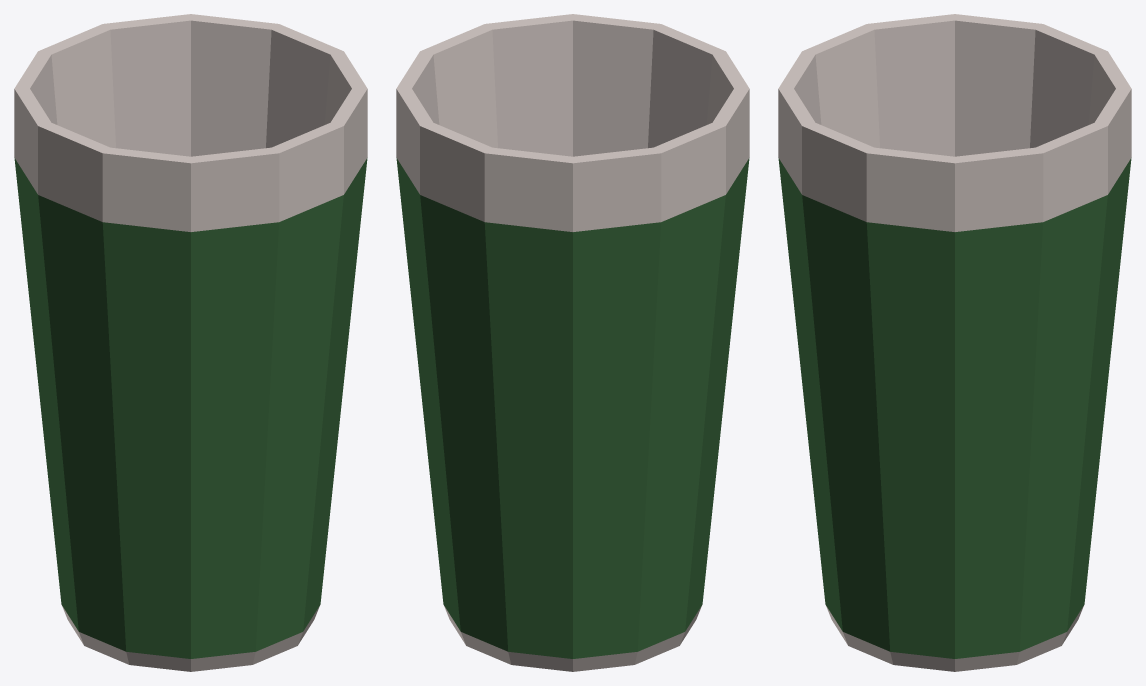
File: Cup.fbx
3 renders of one model, left to right at view 1: azimuth 30°, elevation 25°; view 2: azimuth 150°, elevation 25°; view 3: azimuth 270°, elevation 25°, orthographic.
Parts seen in each view (by area): view 1: Cup; view 2: Cup; view 3: Cup.
Part boxes in pixels (box(x1,y1,x2,y2)): Cup: box(14, 14, 367, 671); Cup: box(396, 14, 749, 671); Cup: box(778, 14, 1131, 671).
Bounding box in the file's own units: 22.08 × 36.63 × 22.08.
